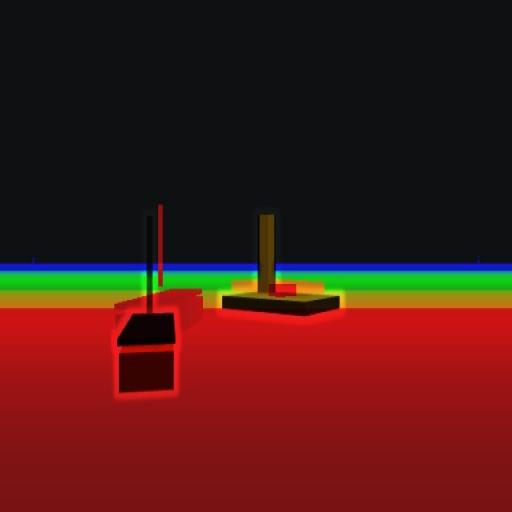platform: (220, 212, 339, 320)
vessel: (118, 232, 178, 392)
